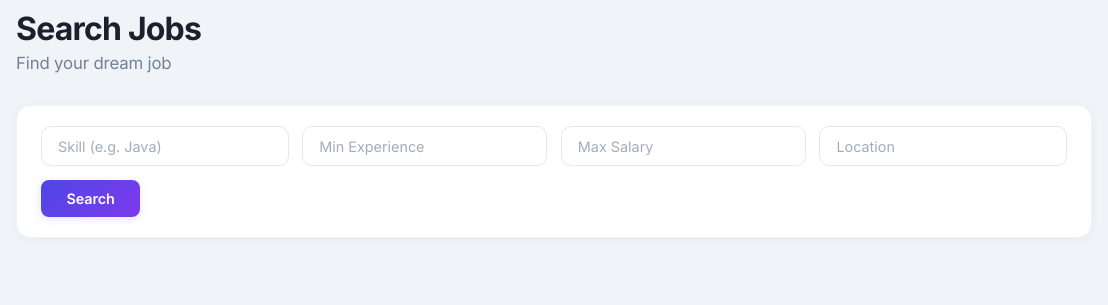
Test: JobSearch › shows "No jobs found" message when search returns empty
Click the button "Search" at (91, 199), box [41,180,140,218]
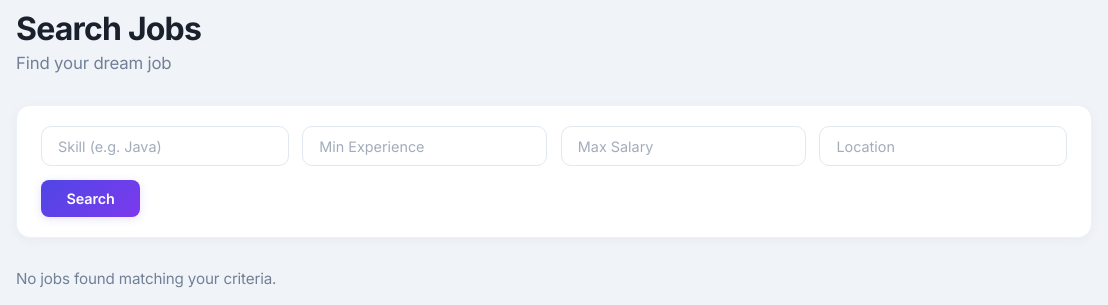
Now the text "No jobs found matching your criteria." is shown, box [16,270,276,288]
